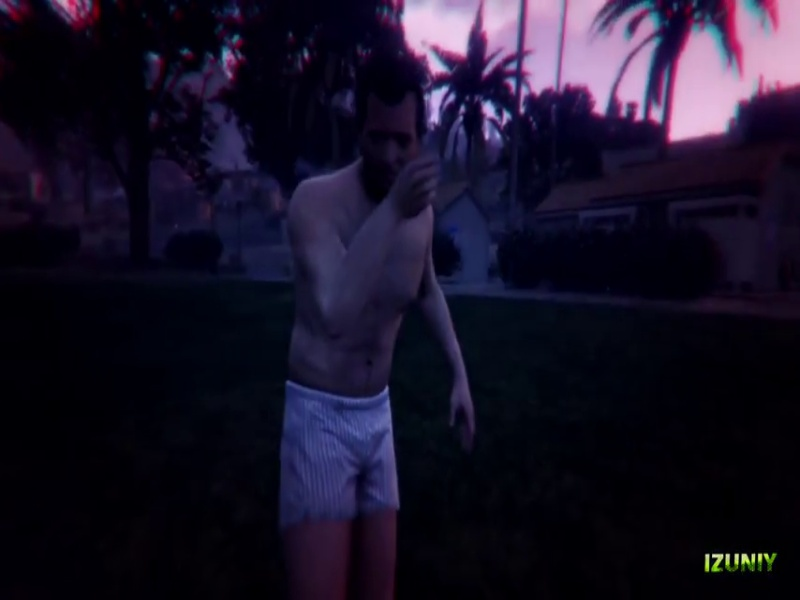human: (268, 51, 484, 599)
